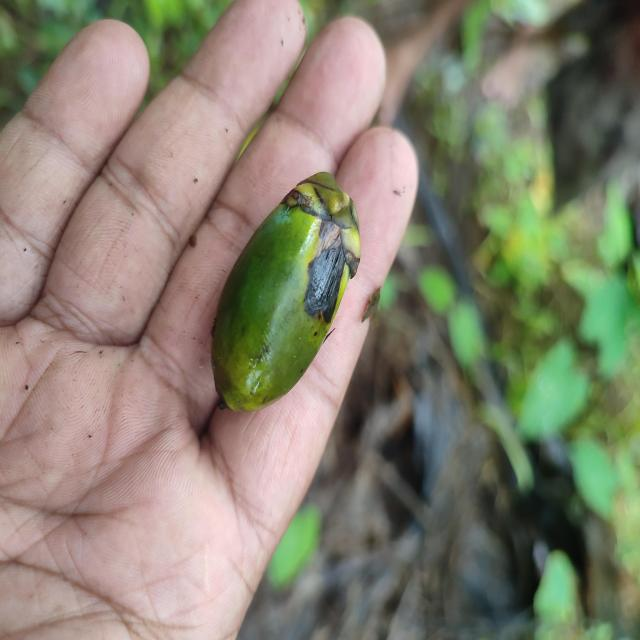damaged: (209, 173, 362, 415)
